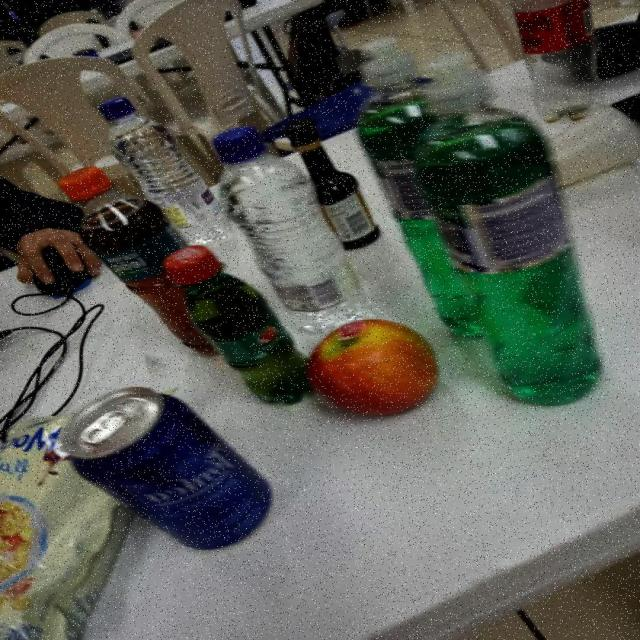Apple: (305, 318, 437, 417)
Cleaner: (372, 50, 604, 400)
CornFlakes: (1, 409, 133, 640)
EnglishSauce: (272, 117, 382, 250)
Guarana: (161, 244, 310, 404)
IceTea: (56, 167, 232, 356)
Tonic: (59, 388, 266, 554)
Water: (213, 123, 364, 326), (100, 96, 234, 245)
